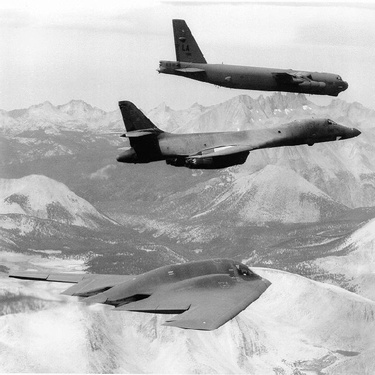airplane: (1, 241, 279, 338), (95, 87, 365, 173), (149, 15, 354, 101)
